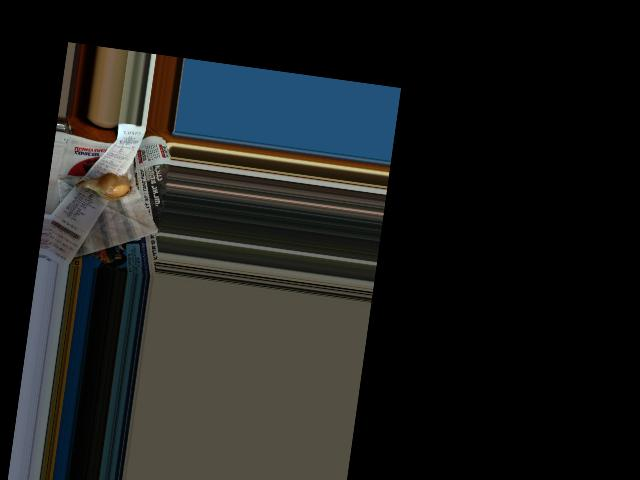onion: (78, 171, 129, 202)
